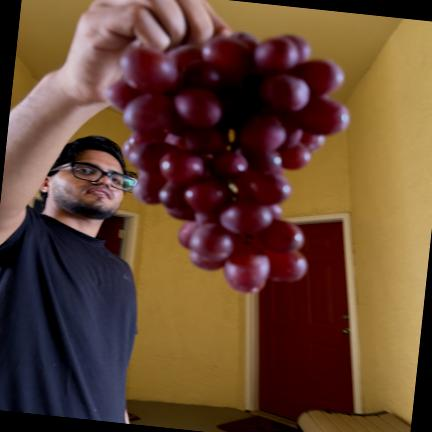grape_cluster: (108, 33, 349, 292)
